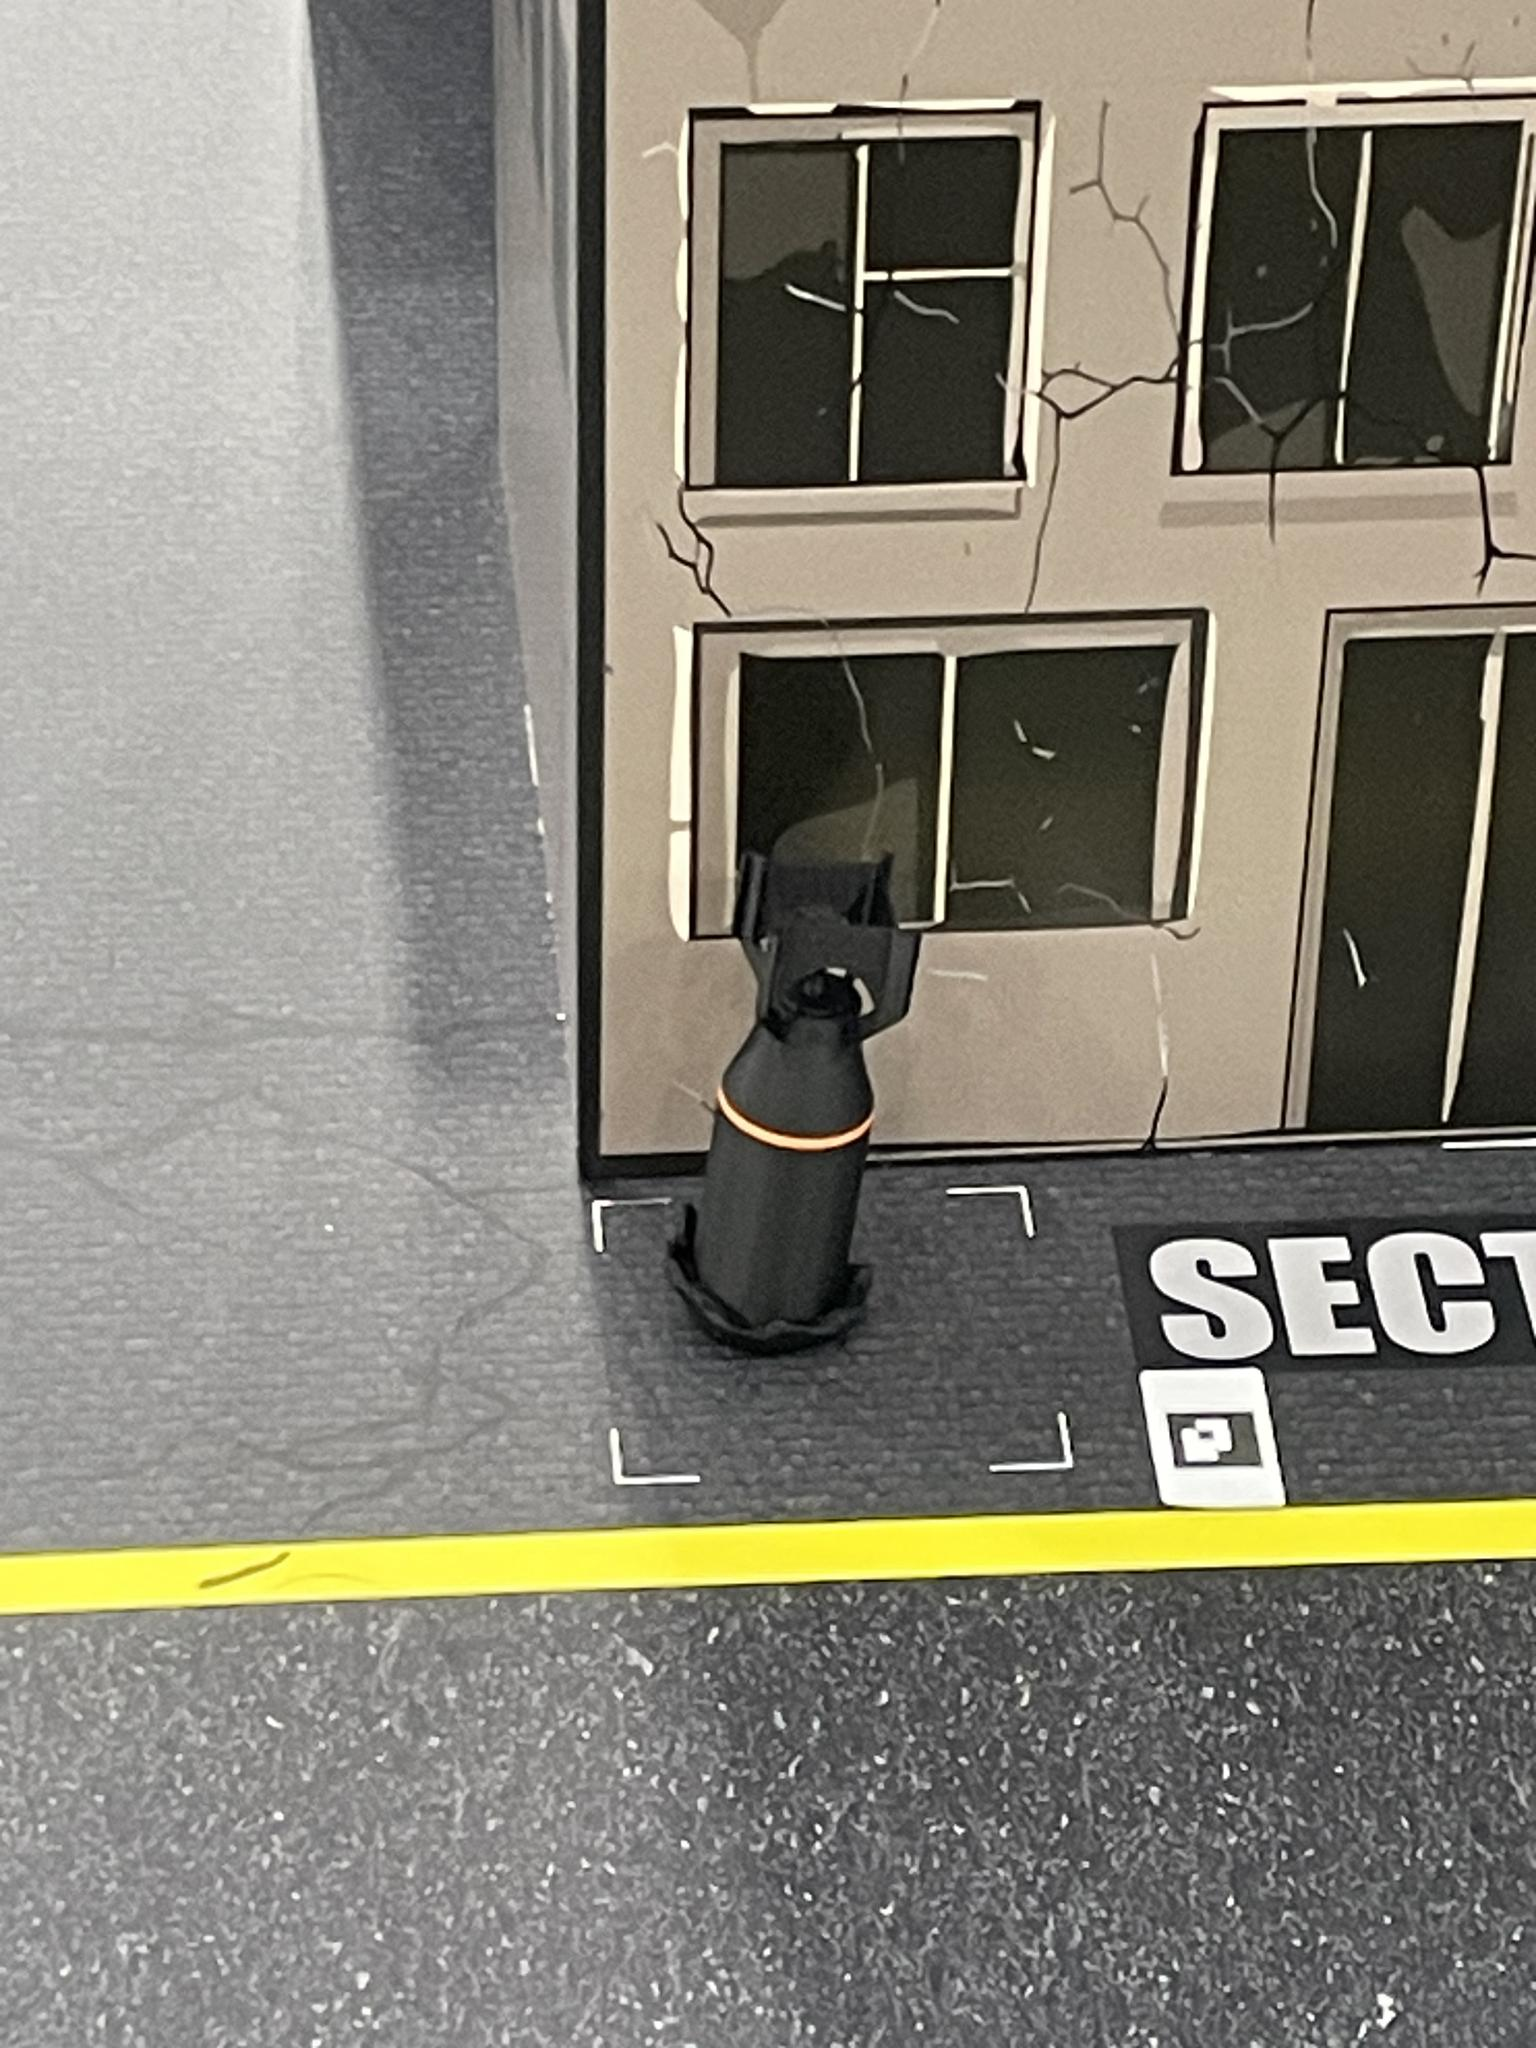Missile: (678, 830, 921, 1405)
